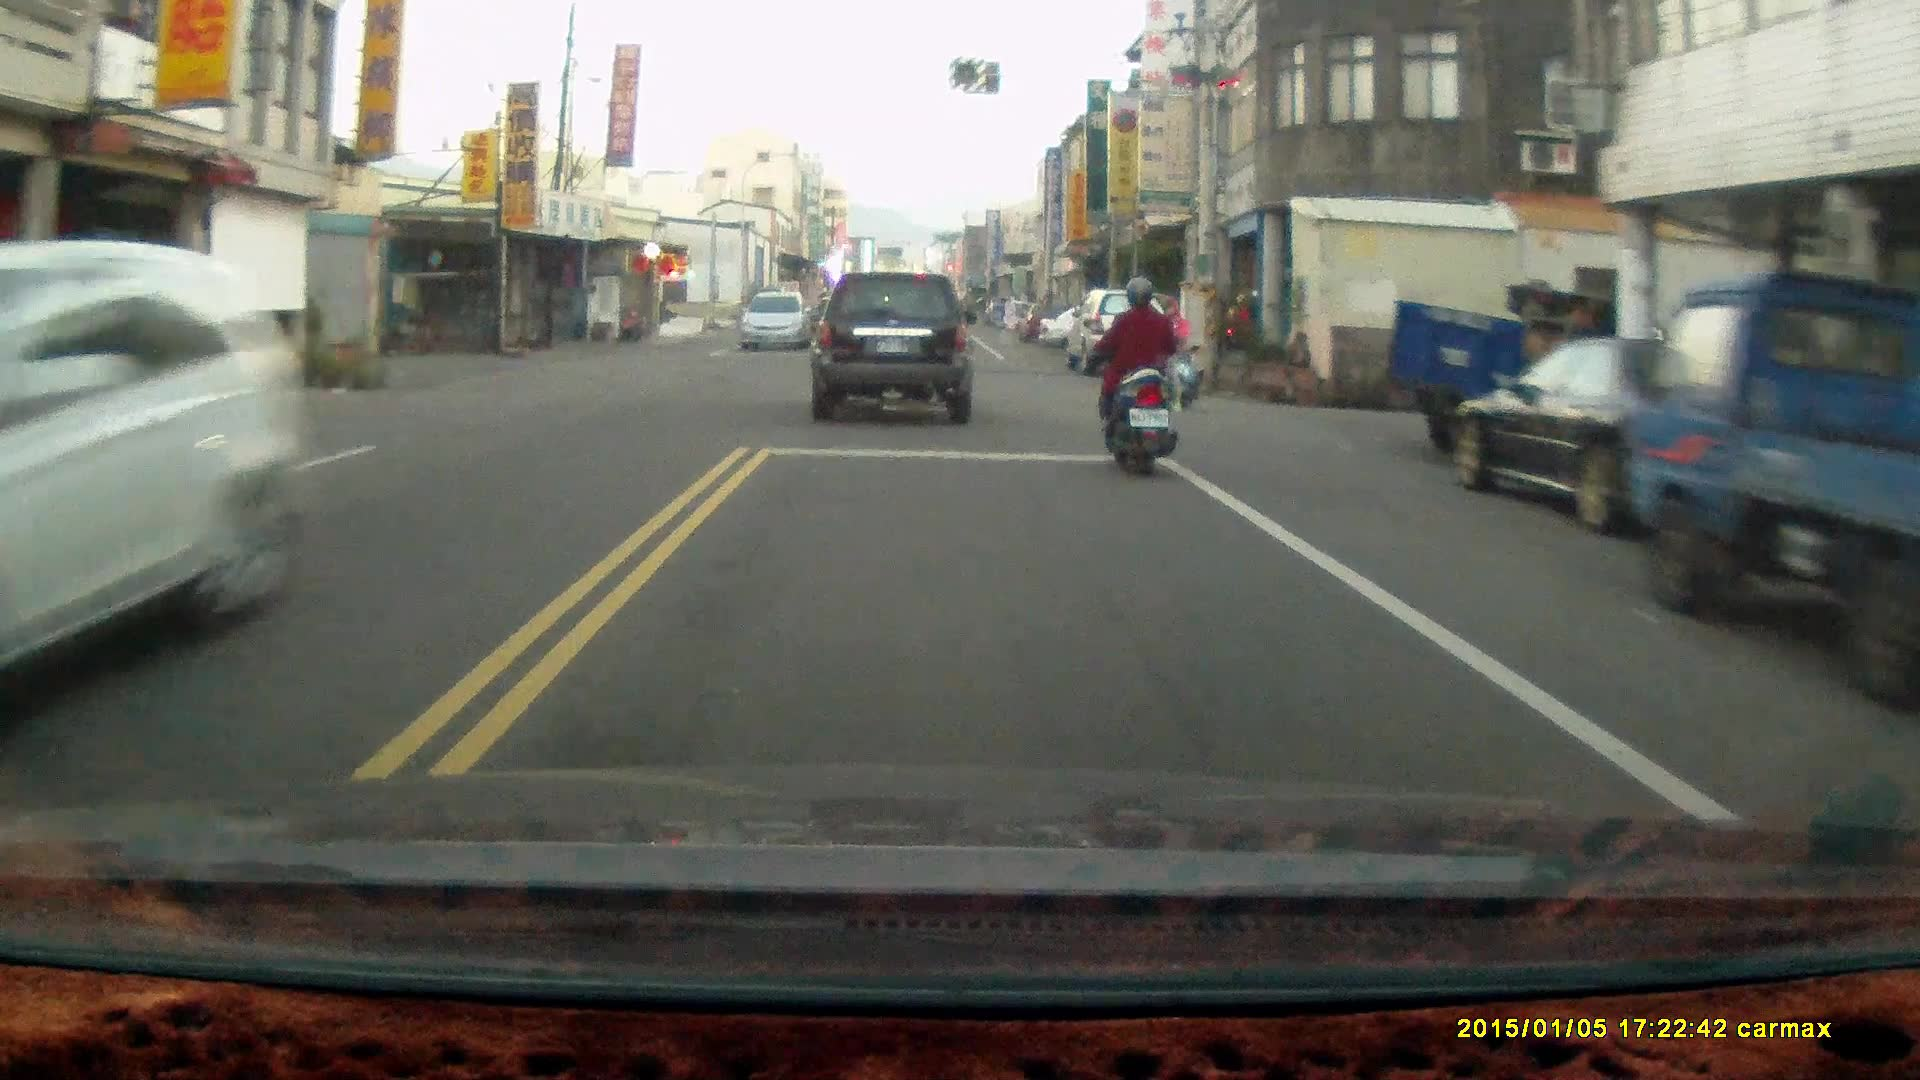rider: (1097, 271, 1175, 477)
vehicle: (1, 238, 306, 740), (1630, 267, 1920, 688), (1444, 328, 1843, 533), (1385, 277, 1661, 460), (808, 269, 982, 427), (1067, 287, 1176, 372), (740, 292, 816, 355)
